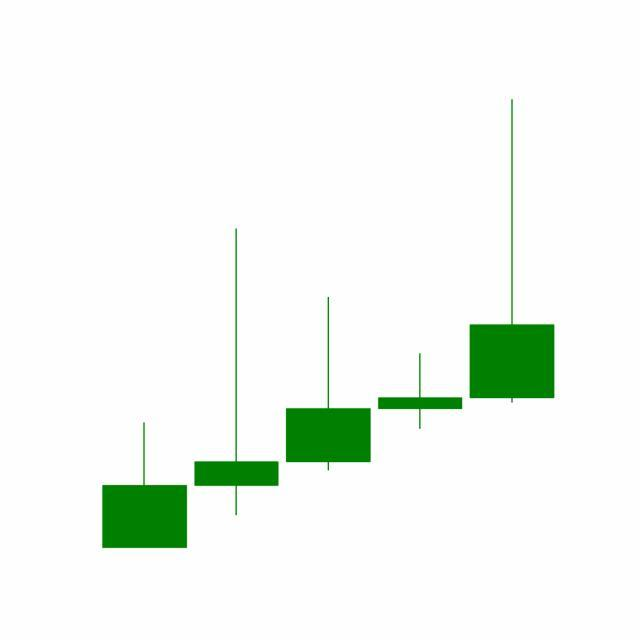Spinning Top: (374, 352, 468, 430)
